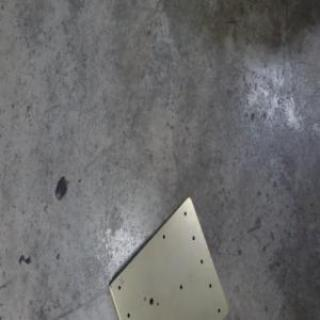MetalSheettrack_idkeyframe: (106, 195, 230, 319)
